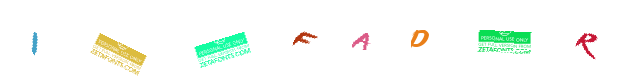2: (219, 0, 299, 80)
6: (436, 0, 516, 80)
7: (156, 0, 236, 80)
A: (300, 0, 380, 80)
D: (355, 0, 435, 80)
F: (281, 0, 361, 80)
J: (128, 0, 208, 80)
R: (464, 0, 544, 80)
